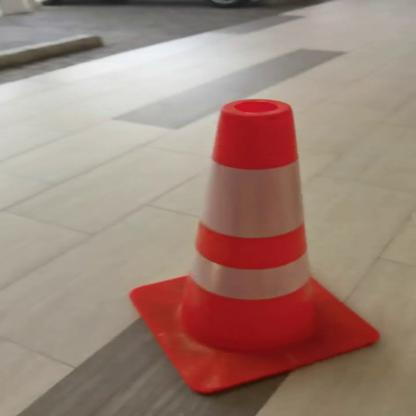cone: (121, 94, 390, 401)
